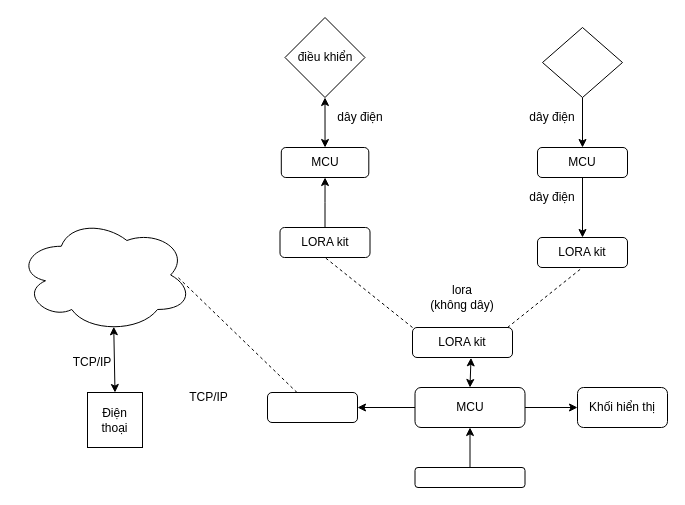
Some shapes in this 685 by 505 pixel diagram are drawn without their labels. Each missing label, with the centre of its shape:
Công tắc nguồn: the point at 469,477
Cảm biến: the point at 582,62
webhost: the point at 104,274
WIFI module: the point at 312,407
